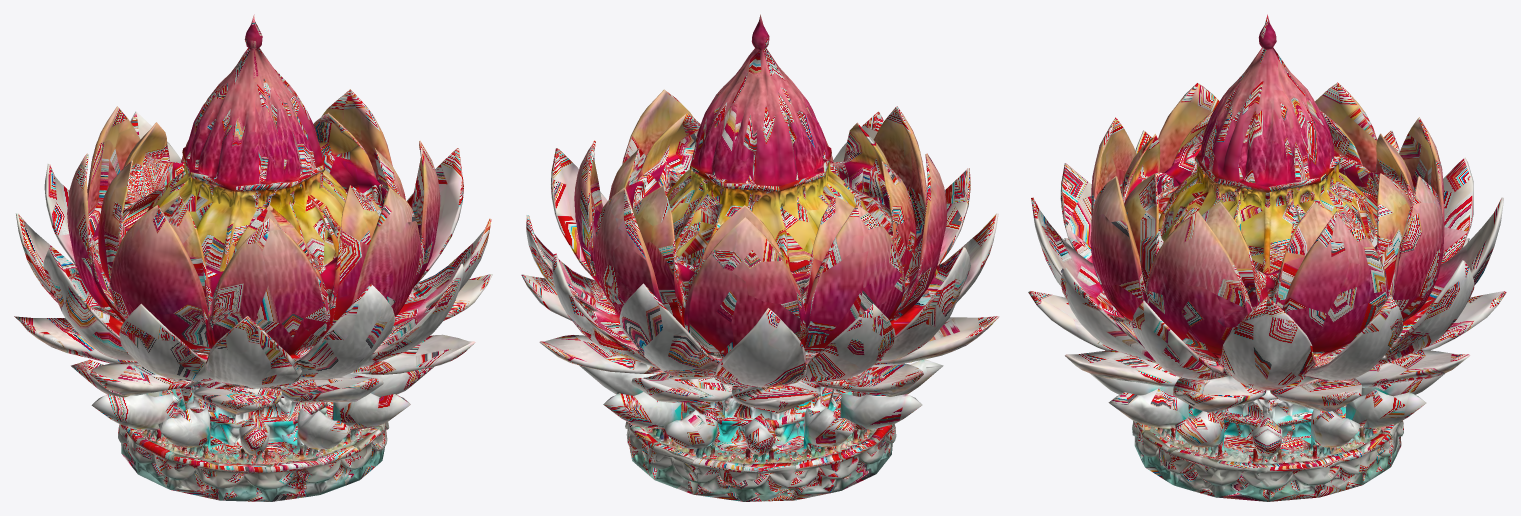
File: A_colossal_floating_c.glb
3 views of the same model, side by side, from view 1: azimuth 30°, elevation 25°; view 2: azimuth 150°, elevation 25°; view 3: azimuth 270°, elevation 25° (orthographic).
Visible parts, largest first — view 1: A_colossal_floating_c; view 2: A_colossal_floating_c; view 3: A_colossal_floating_c.
Boxes of the visible parts, x1=… form: A_colossal_floating_c: x1=14, y1=14, x2=492, y2=501; A_colossal_floating_c: x1=521, y1=14, x2=999, y2=501; A_colossal_floating_c: x1=1028, y1=14, x2=1506, y2=501.
Bounding box in the file's own units: 1.88 × 1.9 × 1.91.
1 material, 1 textured.
